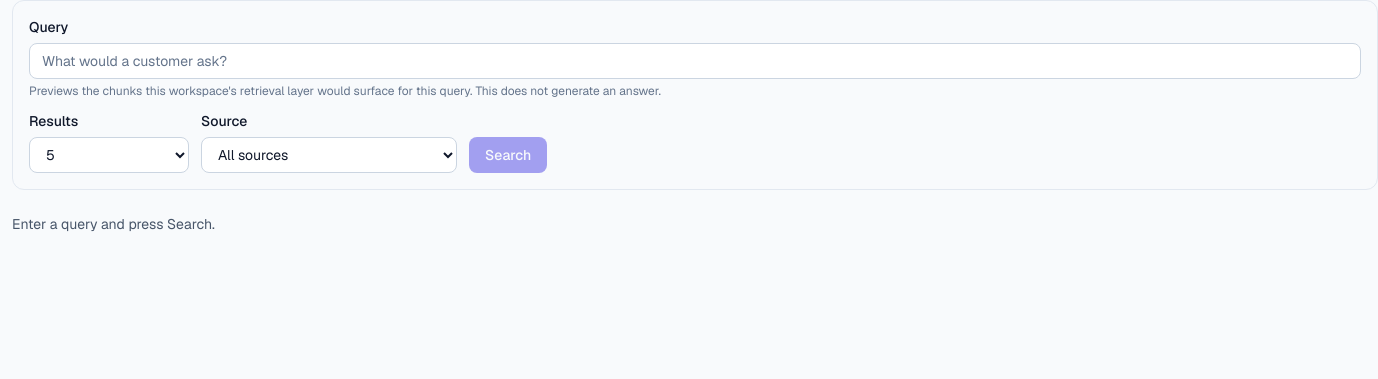
Test: KnowledgeSearchPanel › score semantics › labels the real backend metric as Similarity — never a percentage, never confidence
The image size is (1378, 379).
Type "refund" into the search field labelled "Query" at (695, 61), box [29, 43, 1361, 79]
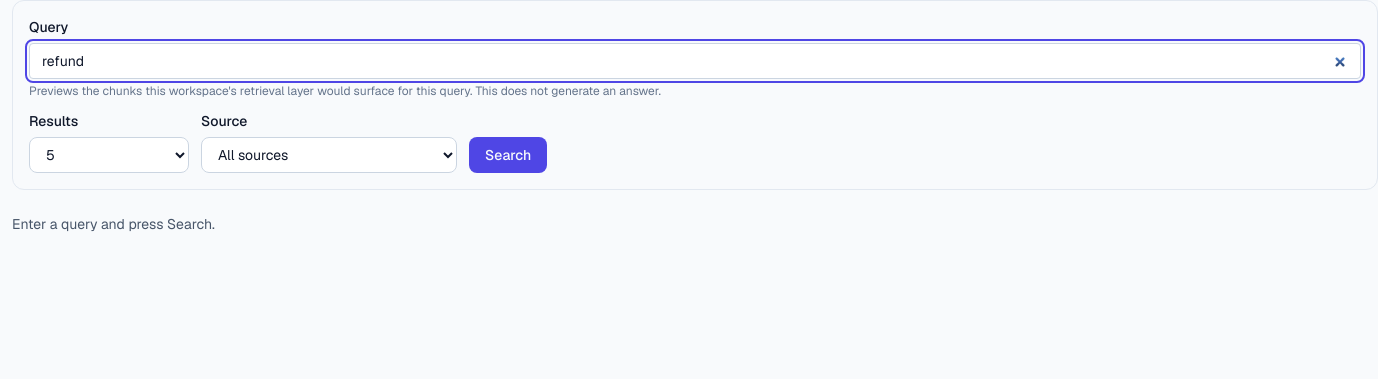
Click the button "Search" at (508, 155), box [469, 137, 547, 173]
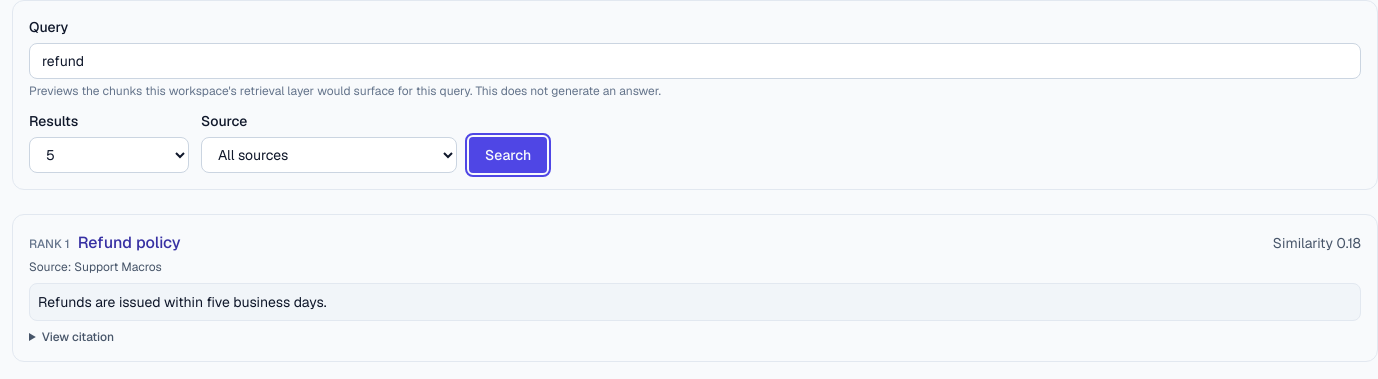
expect the text "Similarity 0.18" is shown: met, box [1273, 233, 1361, 253]
